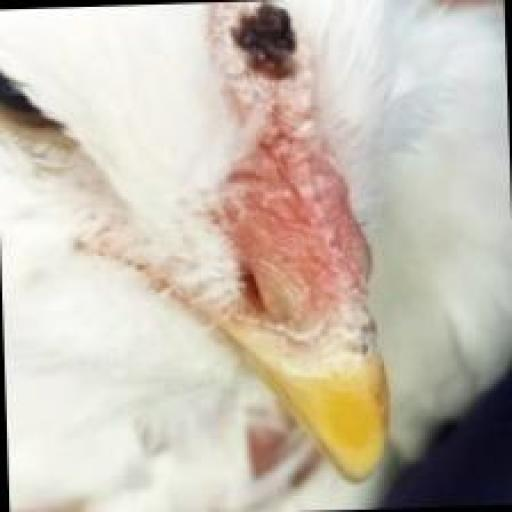disease: (186, 0, 433, 478)
